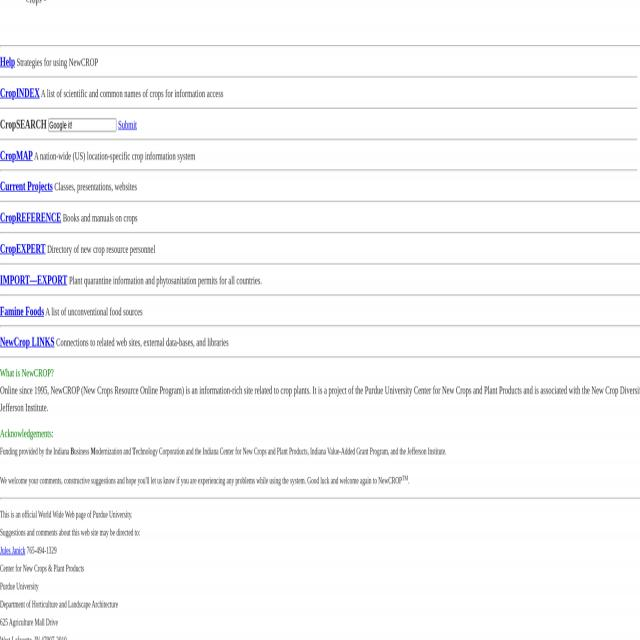field: (48, 118, 116, 131)
